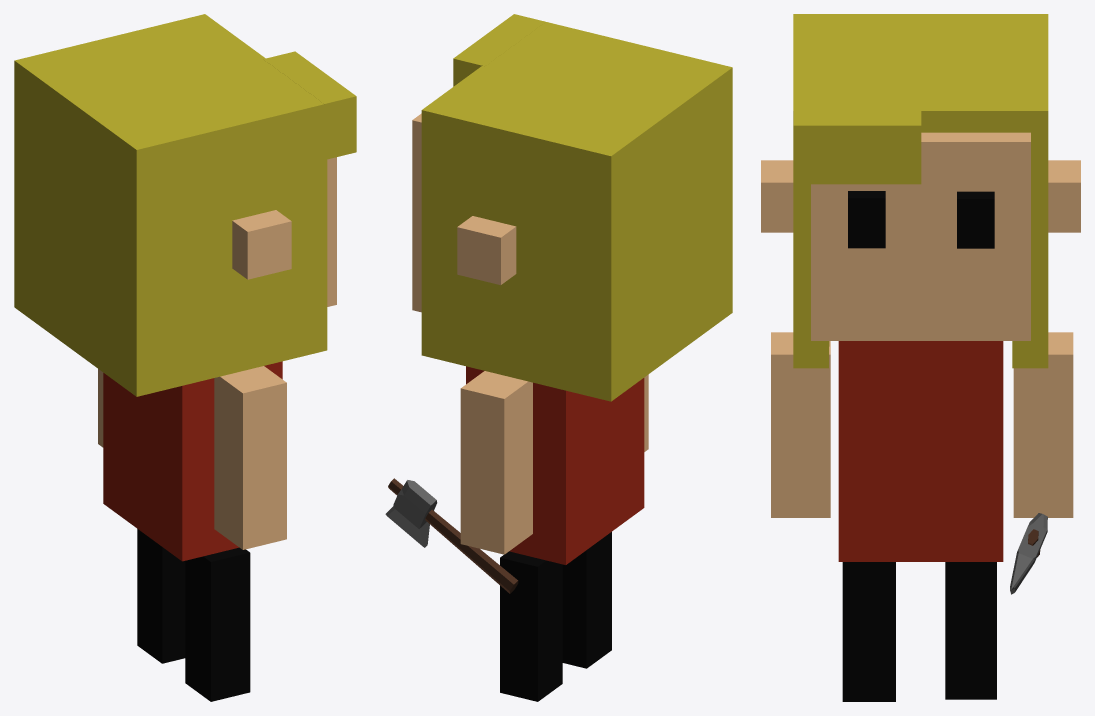
File: Chara-F_bois.fbx
3 views of the same model, side by side, from view 1: azimuth 30°, elevation 25°; view 2: azimuth 150°, elevation 25°; view 3: azimuth 270°, elevation 25° (orthographic). The views are drawn at different scales.
Visible parts, largest first — view 1: Cube.109; view 2: Cube.109; view 3: Cube.109.
Part boxes in pixels (x1,y1,x2,y2): Cube.109: (14,14,356,701); Cube.109: (385,14,732,701); Cube.109: (761,14,1080,701).
Size of the model in its own units: 73.49 by 170 by 79.6.
